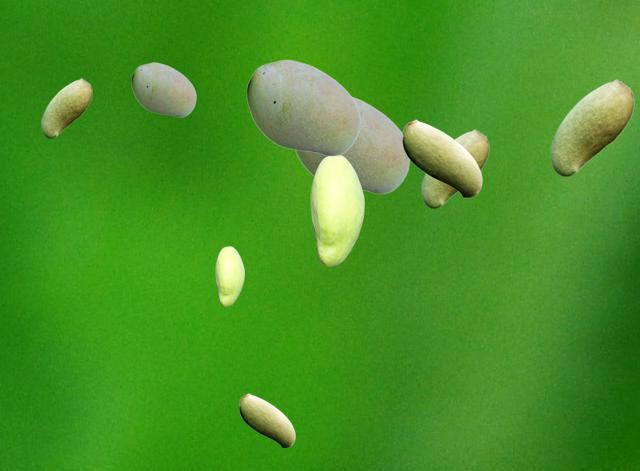green_mango: (295, 96, 409, 193), (246, 59, 359, 155), (550, 79, 633, 175), (402, 119, 481, 197), (310, 155, 363, 265), (421, 129, 488, 207), (131, 62, 195, 116), (239, 393, 294, 447), (41, 78, 91, 137), (215, 246, 243, 305)
